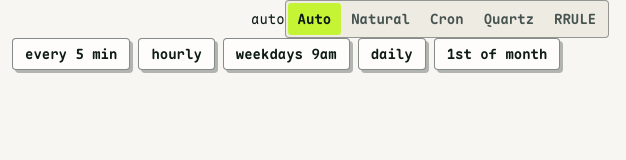
Test: SchedulePresets › in auto every preset writes that syntax and keeps the mode
Click the button "every 5 min" at point(71, 54), box [12,38,130,70]
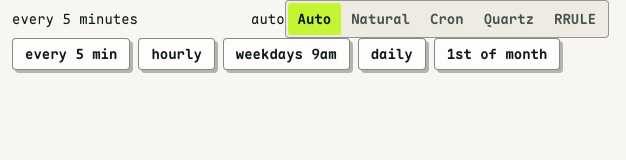
Expected: the text named "mode" reads "auto", [251,10,285,28]
Expected: the field named "expr" holds "every 5 minutes", [12,8,251,31]
Click the button "weekdays 9am" at point(286, 54), box [223,38,350,70]
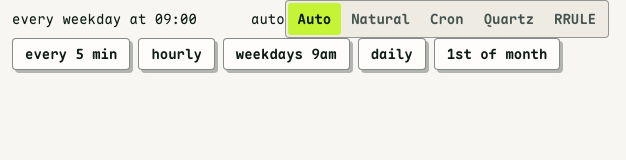
Expected: the text named "mode" reads "auto", [251,10,285,28]
Expected: the field named "expr" holds "every weekday at 09:00", [12,8,251,31]
Click the button "1st of month" at point(497, 54), box [434,38,560,70]
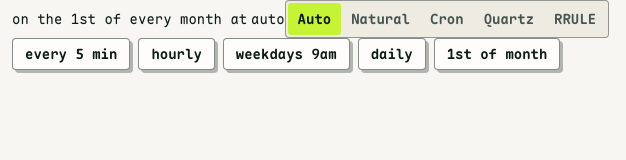
Expected: the text named "mode" reads "auto", [251,10,285,28]
Expected: the field named "expr" holds "on the 1st of every month at 09:00", [12,8,251,31]
Click the button "hourly" at point(177, 54), box [138,38,215,70]
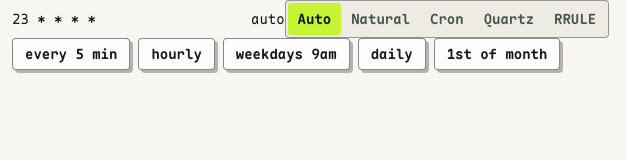
Expected: the text named "mode" reads "auto", [251,10,285,28]
Expected: the field named "expr" holds "23 * * * *", [12,8,251,31]
Click the button "daily" at point(392, 54), box [358,38,426,70]
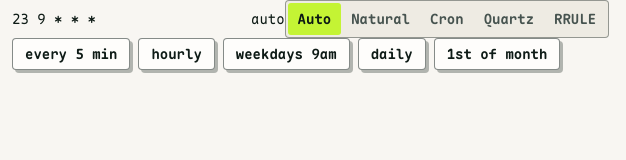
Expected: the text named "mode" reads "auto", [251,10,285,28]
Expected: the field named "expr" holds "23 9 * * *", [12,8,251,31]
